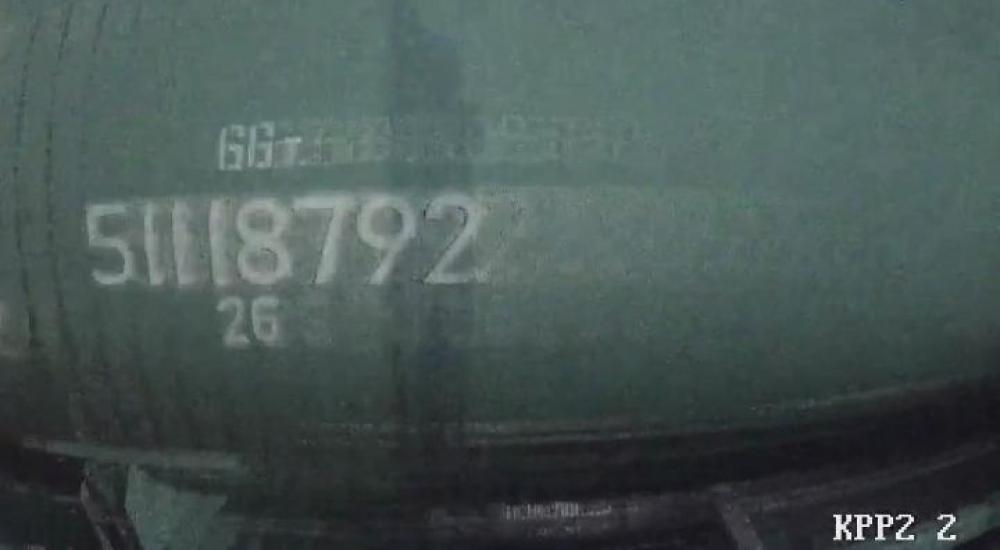Wagon-number: (76, 188, 500, 293)
